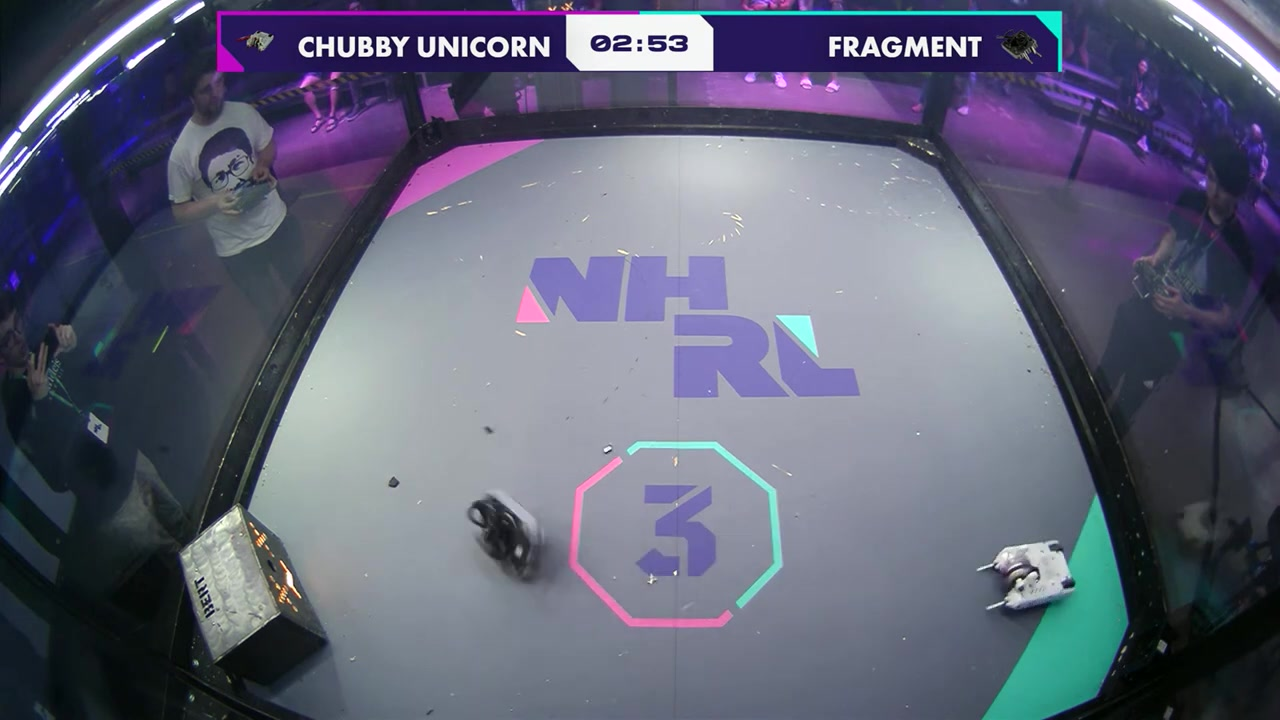combatbot: (468, 489, 544, 583), (999, 541, 1078, 614)
debris: (382, 471, 402, 490)
housebot: (176, 506, 329, 685)
